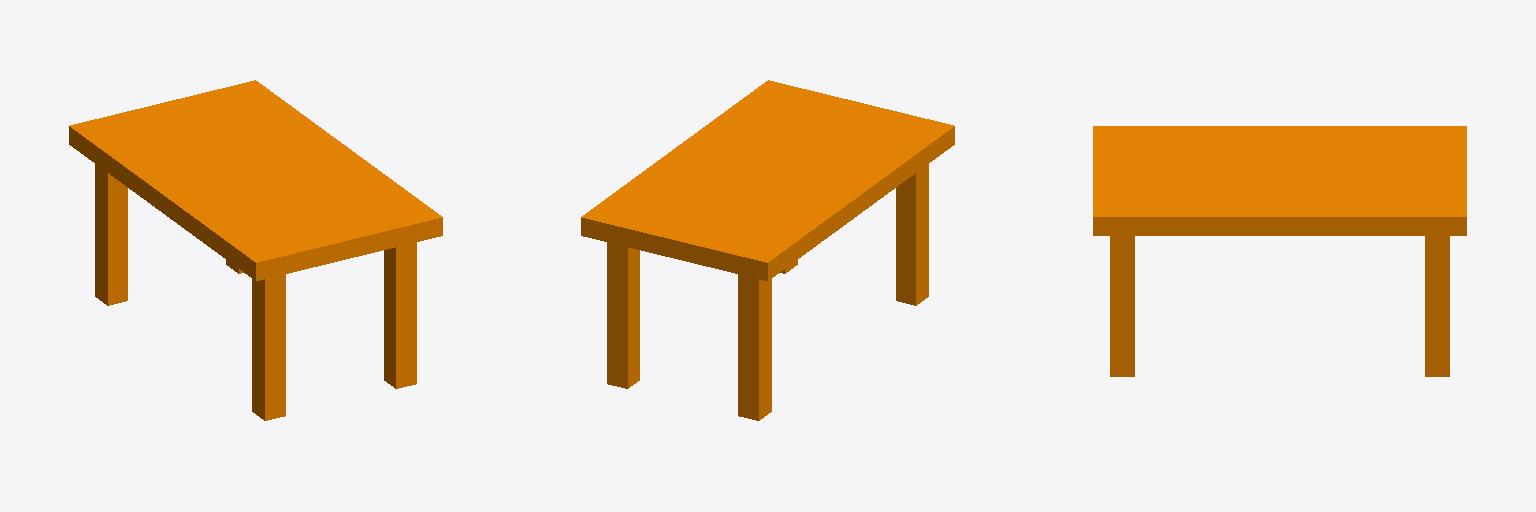
3 views of the same model, side by side, from view 1: azimuth 30°, elevation 25°; view 2: azimuth 150°, elevation 25°; view 3: azimuth 270°, elevation 25° (orthographic).
Visible parts, largest first — view 1: Cube.030_Cube.010; view 2: Cube.030_Cube.010; view 3: Cube.030_Cube.010.
Boxes of the visible parts, box(x1,y1,x2,y2) form: Cube.030_Cube.010: box(69, 80, 442, 420); Cube.030_Cube.010: box(581, 80, 954, 420); Cube.030_Cube.010: box(1093, 126, 1466, 376).
Bounding box in the file's own units: 8.22 × 7.09 × 14.26.
1 materials, 1 textured.